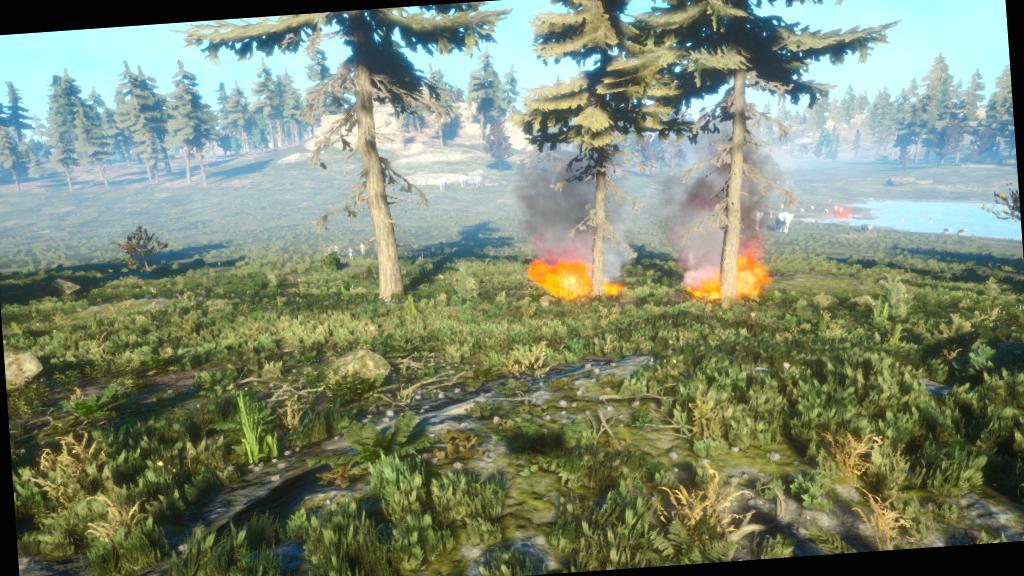Fire: (510, 243, 628, 315), (678, 242, 772, 310)
elephant: (769, 210, 796, 237), (430, 174, 451, 193), (470, 172, 486, 192), (455, 174, 470, 192)
human: (352, 239, 370, 261), (324, 242, 342, 261), (344, 244, 358, 264)
smoke: (498, 127, 638, 288), (641, 107, 771, 270)
